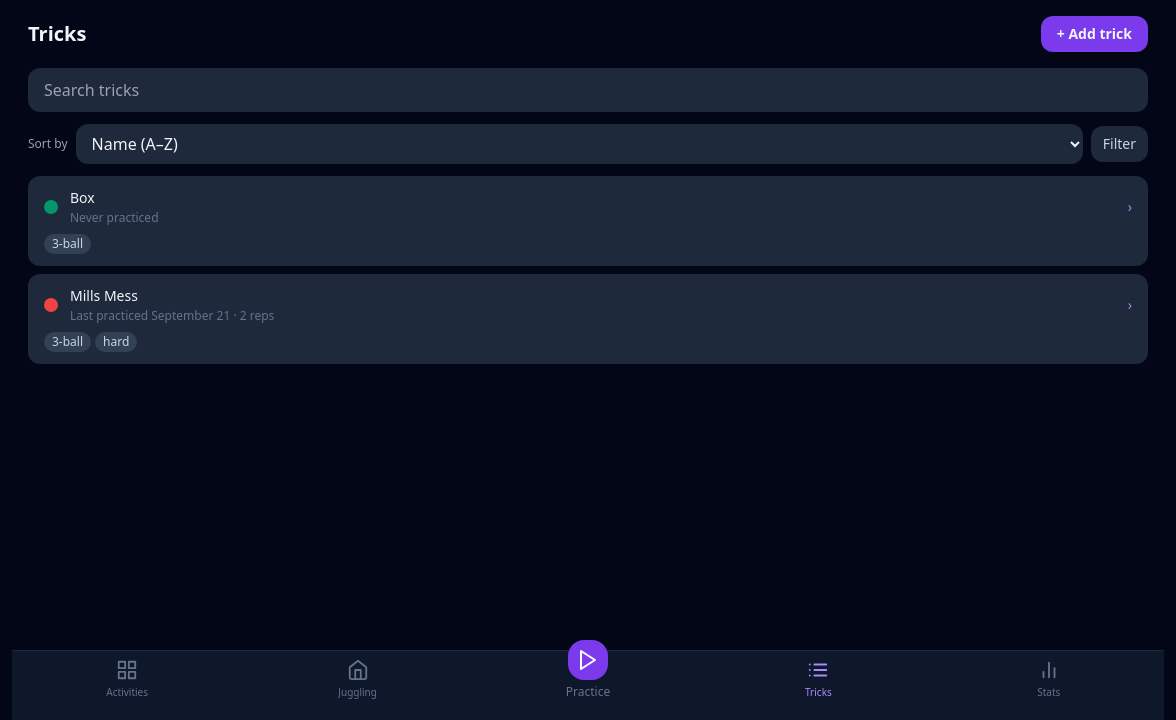
Test case: Items list › keeps color and tag filters behind a Filter button that shows how many are active
Click the button "Filter": point(1119, 144) 1091,126 -> 1148,162
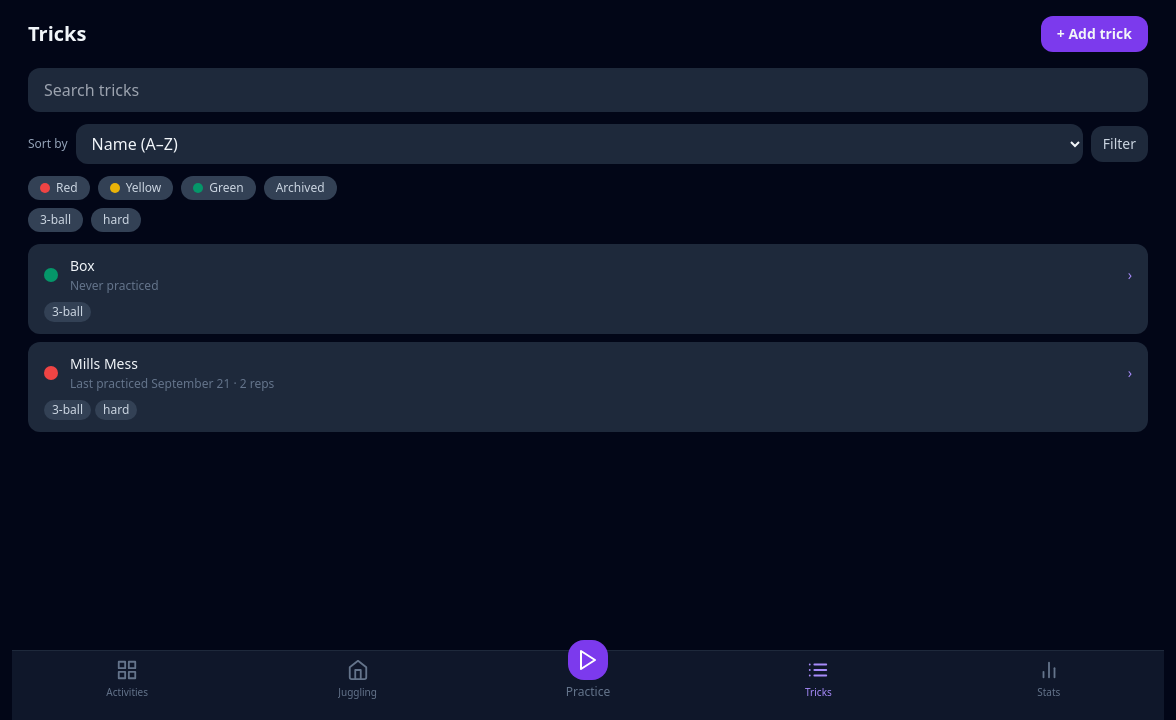
Click the button "hard": point(116, 220) 91,208 -> 141,232
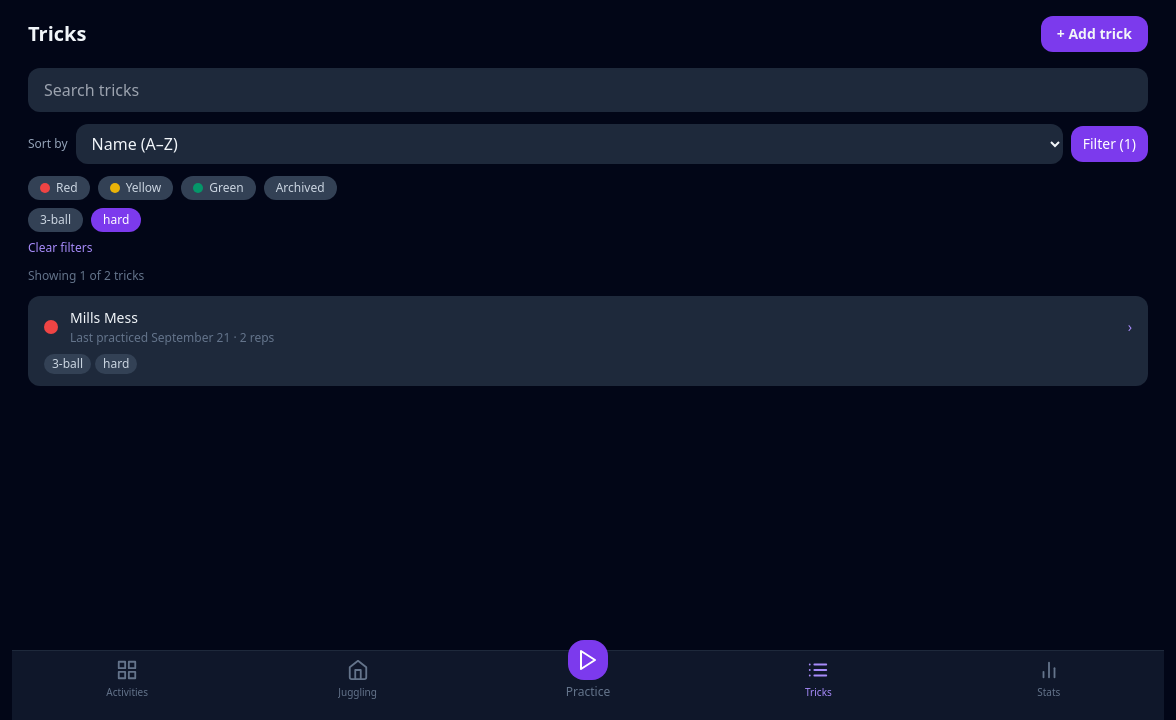
Expected: the number of list items is 1, 28,296 -> 1148,386
Expected: the button "Filter (1)" is shown, 1071,126 -> 1148,162
